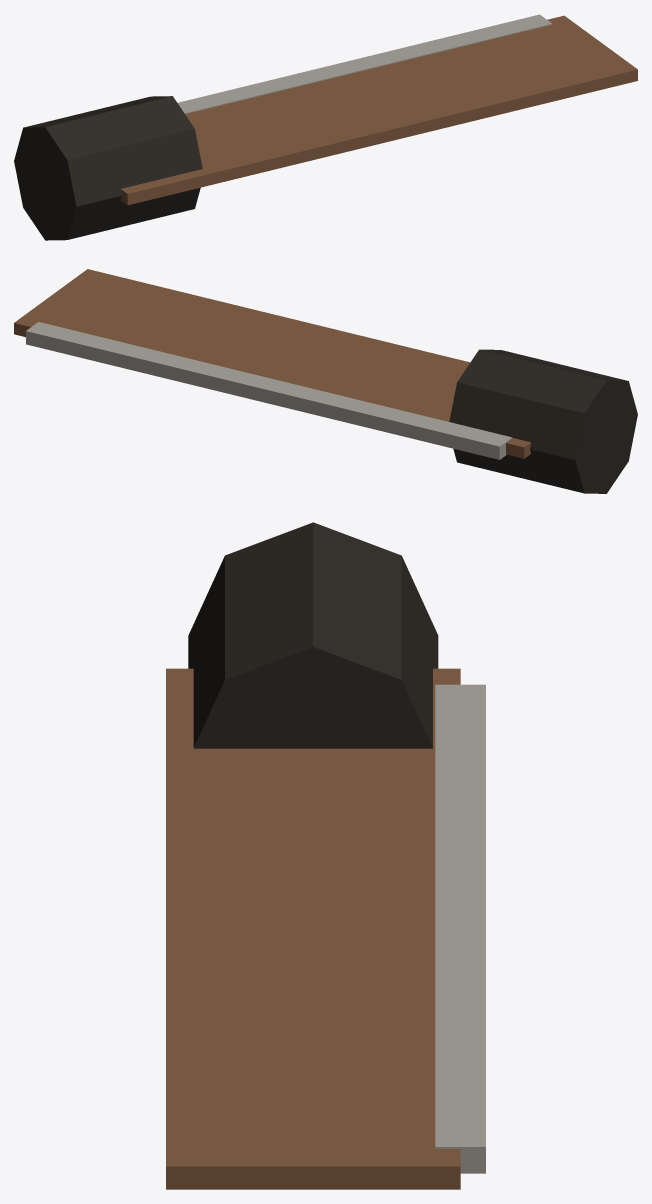
The model's file is wooden handle scrap blade.glb.
3 renders of one model, top to bottom at view 1: azimuth 30°, elevation 25°; view 2: azimuth 150°, elevation 25°; view 3: azimuth 270°, elevation 25°, orthographic. The views are drawn at different scales.
Visible parts, largest first — view 1: scrap blade; view 2: scrap blade; view 3: scrap blade.
Boxes of the visible parts, <box> form: scrap blade: <box>14,14,637,240</box>; scrap blade: <box>14,269,637,493</box>; scrap blade: <box>166,522,485,1189</box>.
Bounding box in the file's own units: 0.305 × 0.0594 × 0.076.
